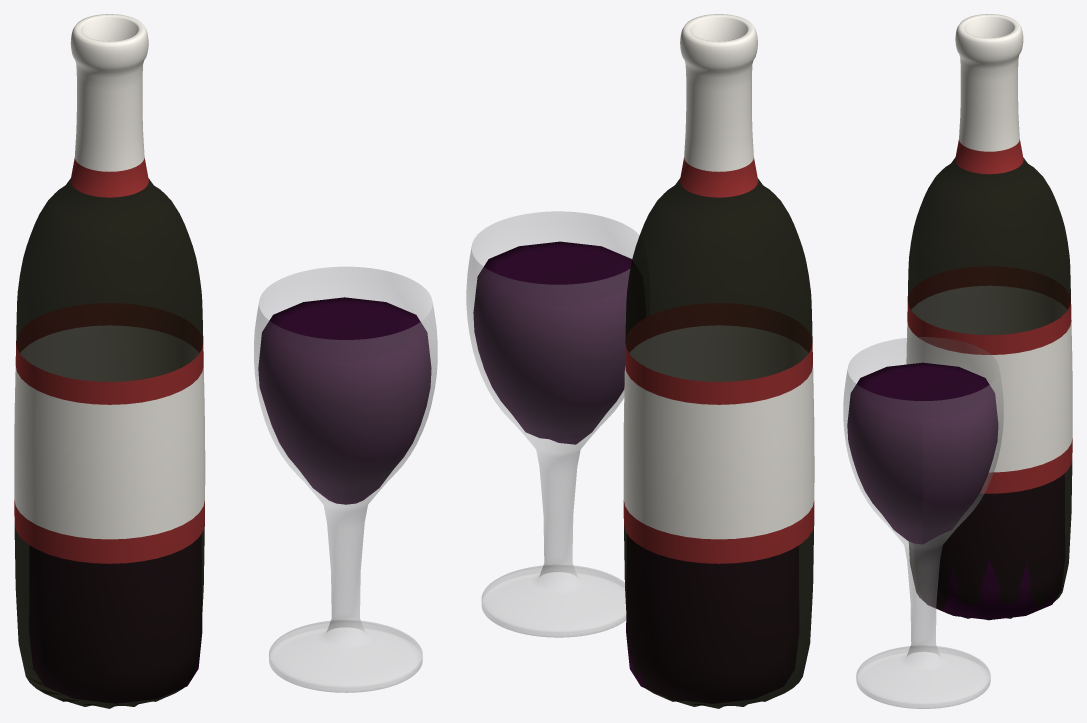
The model's file is BootleOfWine_248.gltf.
3 renders of one model, left to right at view 1: azimuth 30°, elevation 25°; view 2: azimuth 150°, elevation 25°; view 3: azimuth 270°, elevation 25°, orthographic. The views are drawn at different scales.
Parts seen in each view (by area): view 1: node-0; view 2: node-0; view 3: node-0.
Boxes of the visible parts, left/top/right/bottom form: node-0: left=14, top=14, right=437, bottom=708; node-0: left=466, top=14, right=814, bottom=708; node-0: left=843, top=14, right=1072, bottom=708.
Bounding box in the file's own units: 70.79 × 122 × 44.71.
